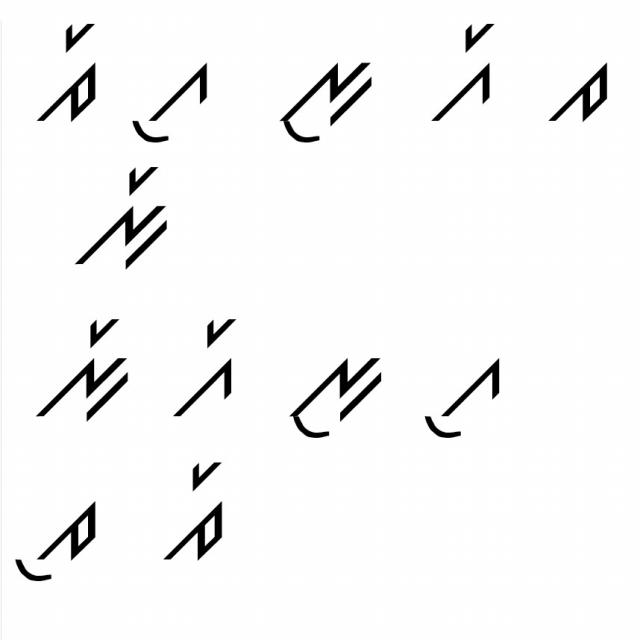gar: (418, 16, 506, 139), (166, 310, 250, 424)
gaw: (120, 44, 228, 148), (415, 345, 505, 452)
ngar: (26, 304, 135, 426), (61, 160, 172, 273)
ngaw: (269, 46, 378, 158), (278, 336, 389, 442)
ta: (541, 46, 619, 140)
tar: (157, 452, 233, 568), (35, 18, 104, 130)
taw: (7, 498, 105, 596)
